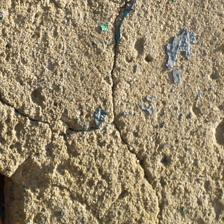Crack: (0, 4, 107, 95), (13, 33, 94, 104), (9, 91, 112, 124)
